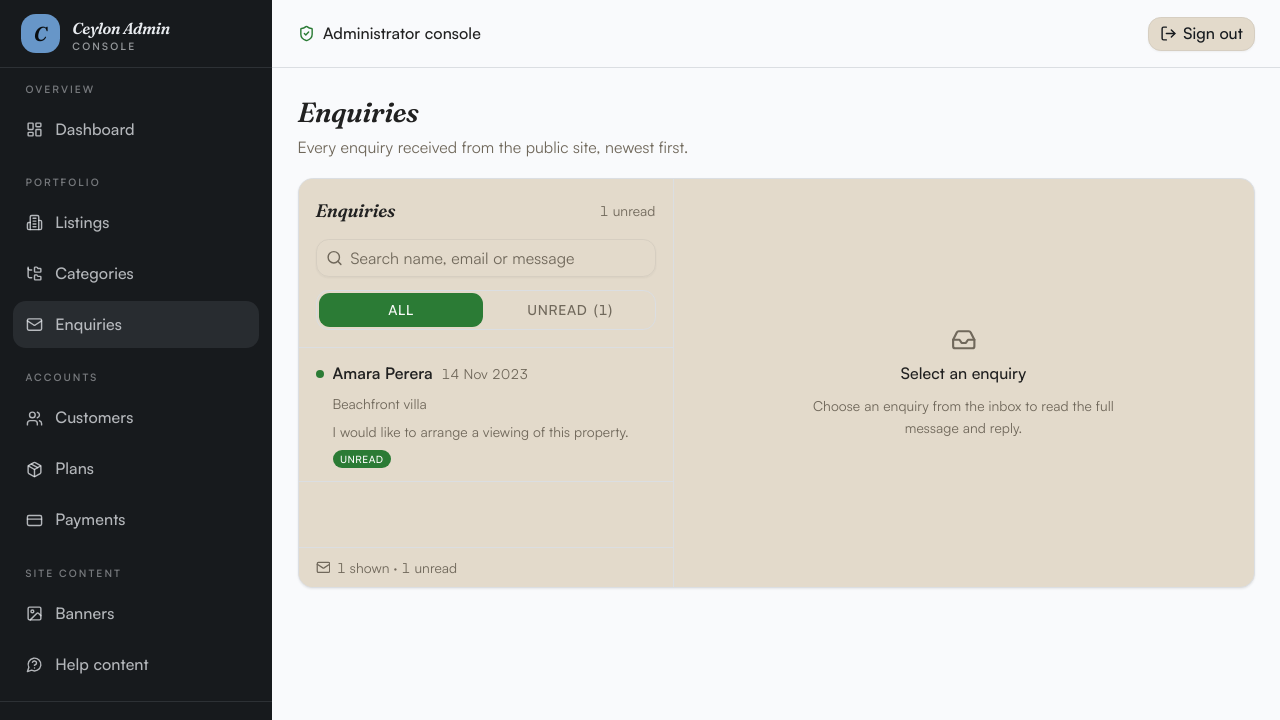
Test case: admin enquiries inbox › opens an enquiry's full detail when its row is selected
Expected: the list with test id "enquiries.list" is shown, [298,348,672,547]
Expected: the element with test id "enquiries.detail_placeholder" is shown, [813,327,1114,436]
Click the button with test id "enquiries.item.1": (383, 373) [298,348,672,482]
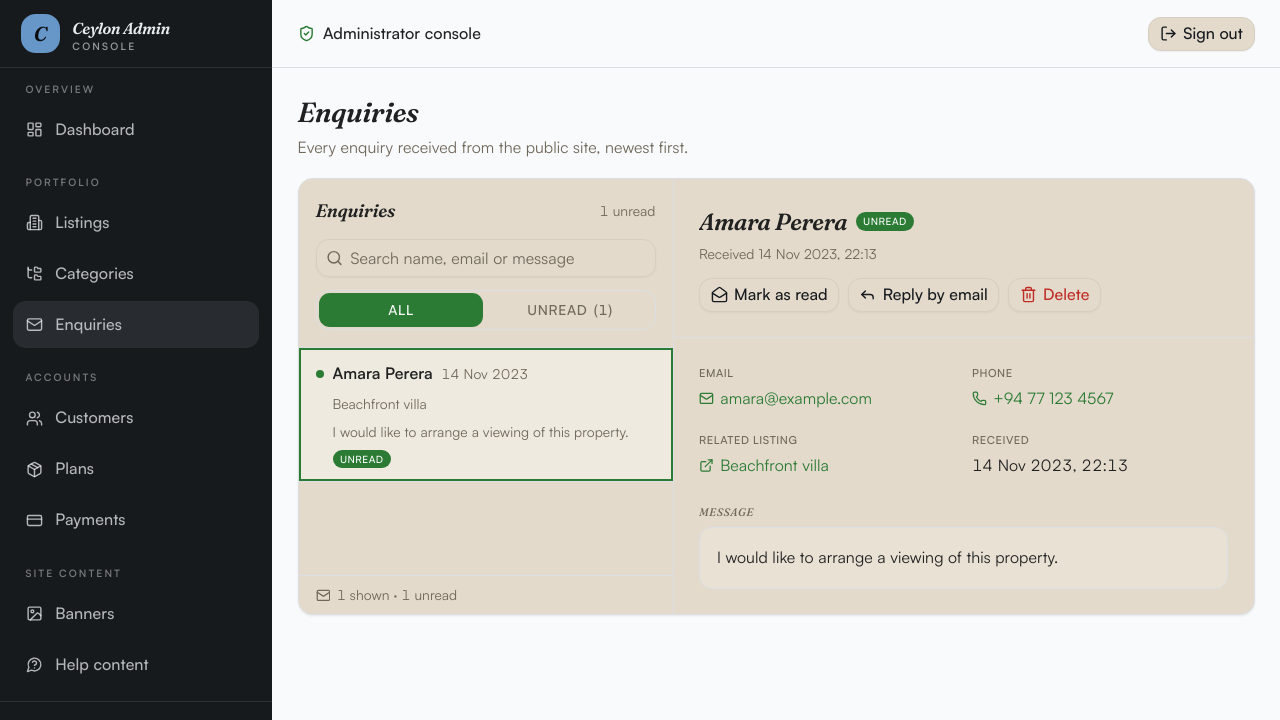
Now the link "amara@example.com" is shown, box [699,386,872,411]
Now the link "+94 77 123 4567" is shown, box [972,386,1113,411]
Now the text with test id "enquiries.message" shows "I would like to arrange a viewing", box [717,547,1058,567]
